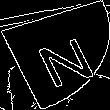N_N: (19, 24, 91, 86)
